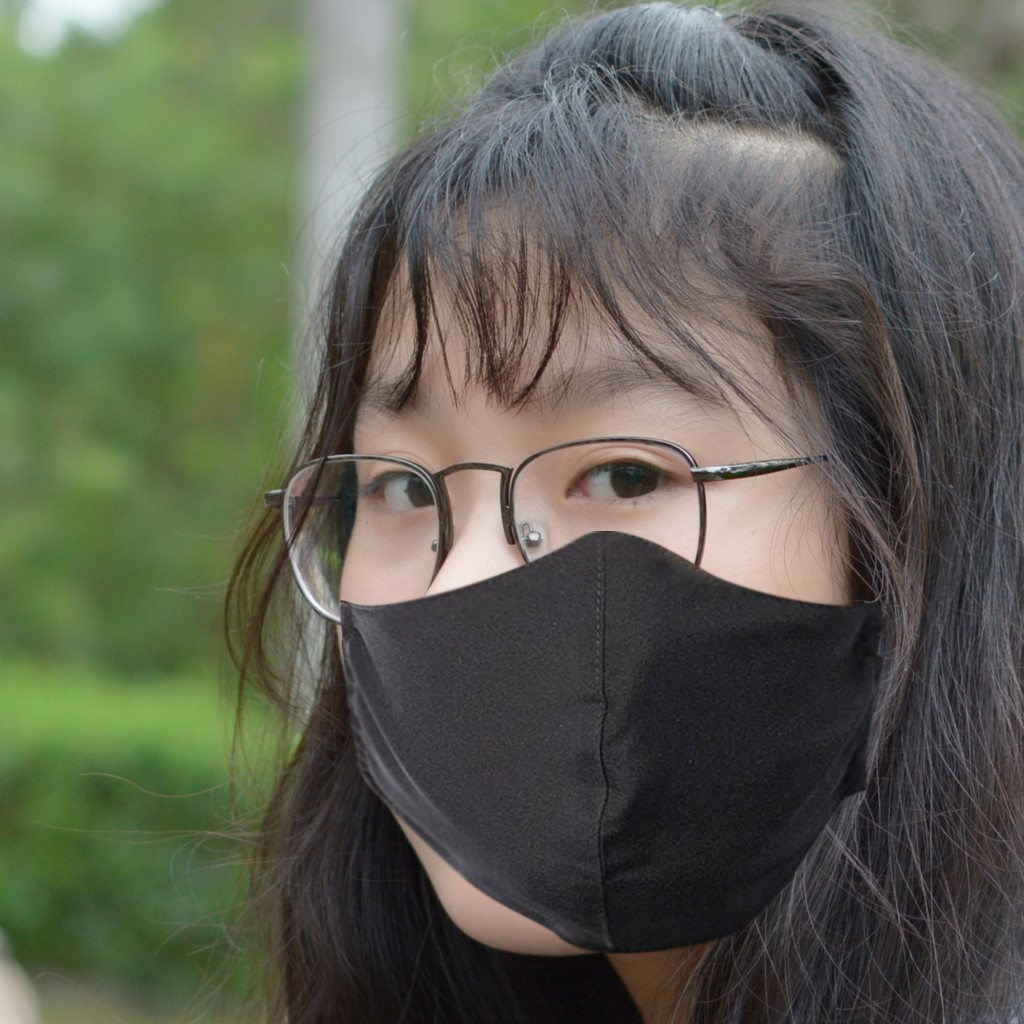con_mascara: (282, 177, 902, 967)
